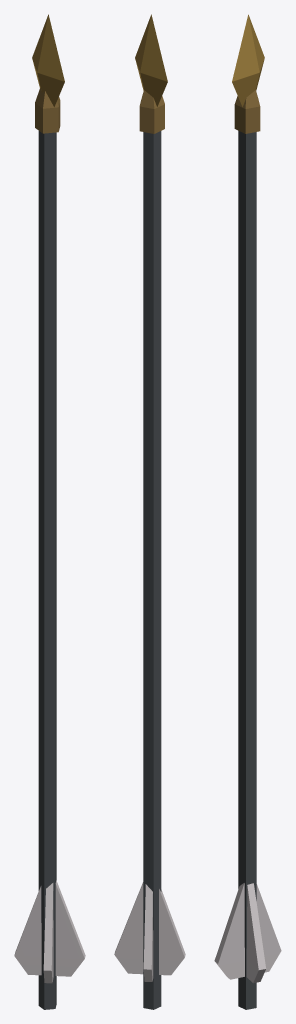
File: _arrow_c_5.glb
3 views of the same model, side by side, from view 1: azimuth 30°, elevation 25°; view 2: azimuth 210°, elevation 25°; view 3: azimuth 330°, elevation 25° (orthographic).
Parts seen in each view (by area): view 1: arrow_c_5; view 2: arrow_c_5; view 3: arrow_c_5.
Boxes of the visible parts, left/top/right/bottom form: arrow_c_5: left=14, top=14, right=85, bottom=1009; arrow_c_5: left=114, top=14, right=185, bottom=1009; arrow_c_5: left=214, top=14, right=281, bottom=1009.
Bounding box in the file's own units: 1114 × 19587 × 1191.
1 material, 1 textured.
